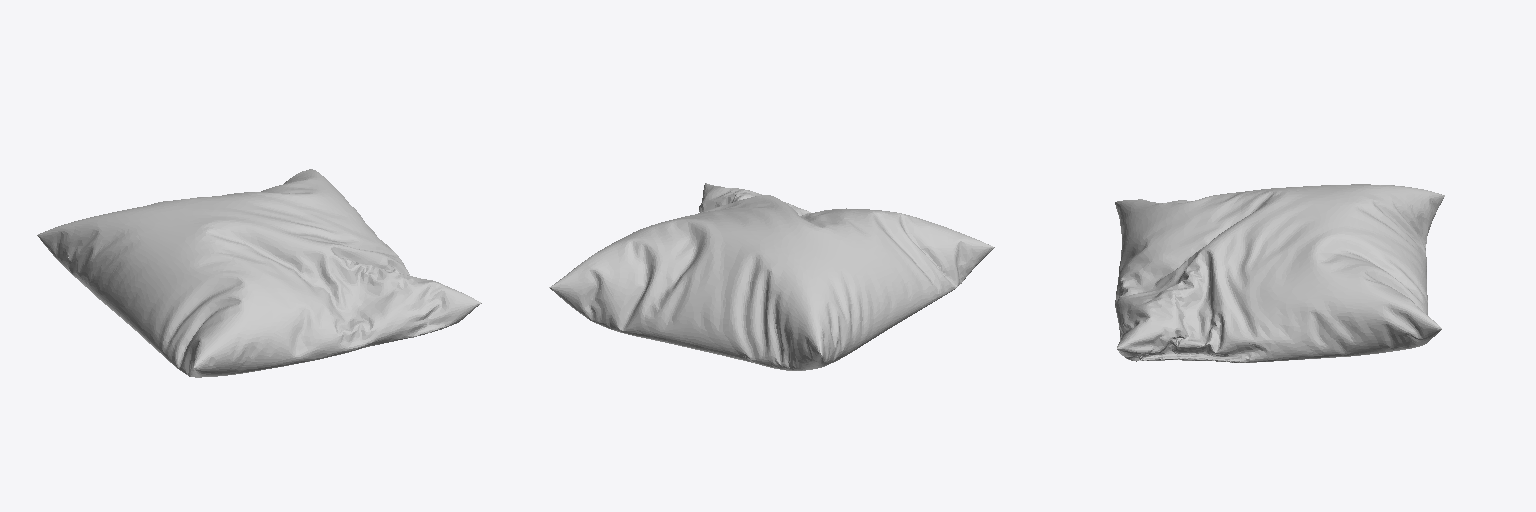
Rendered from pillow.obj.
3 views of the same model, side by side, from view 1: azimuth 30°, elevation 25°; view 2: azimuth 150°, elevation 25°; view 3: azimuth 270°, elevation 25° (orthographic).
Visible parts, largest first — view 1: Group11439; view 2: Group11439; view 3: Group11439.
Part boxes in pixels (bbox=[...]): Group11439: bbox=[37, 169, 481, 377]; Group11439: bbox=[549, 183, 994, 370]; Group11439: bbox=[1115, 184, 1444, 362].
Size of the model in its own units: 869 by 243 by 860.